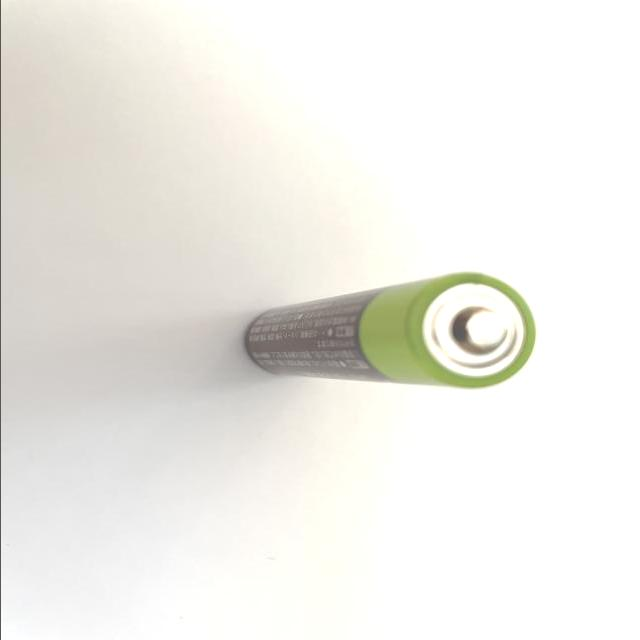AA: (240, 270, 536, 390)
